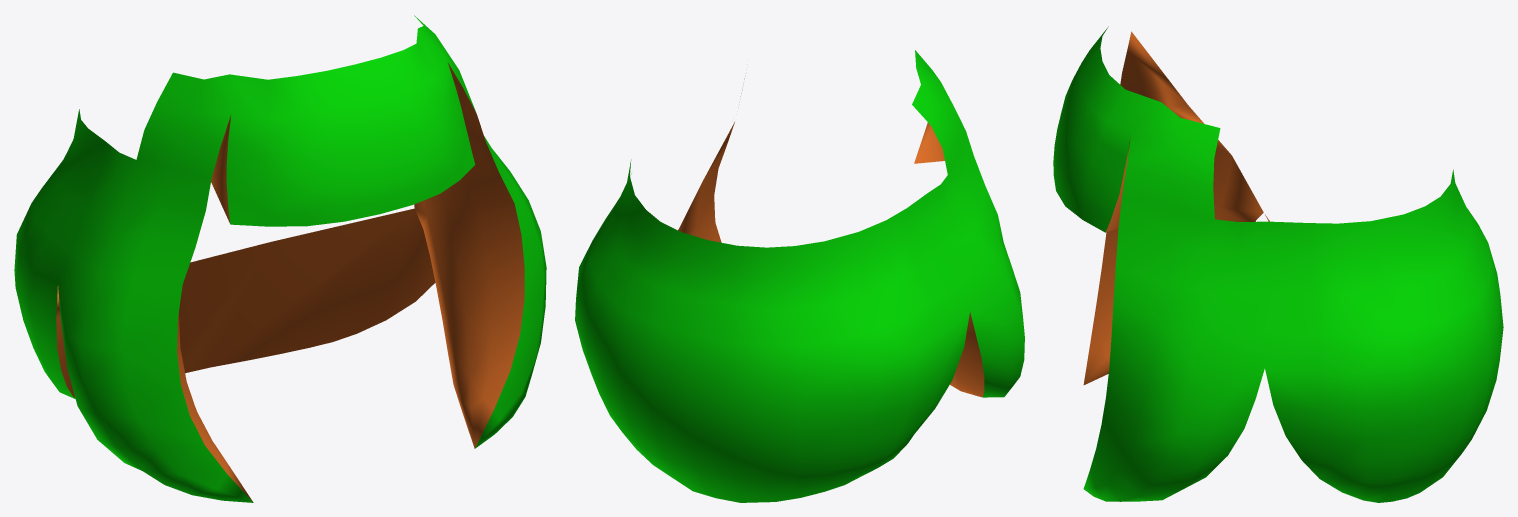
Rendered from Hair2_72.glb.
3 views of the same model, side by side, from view 1: azimuth 30°, elevation 25°; view 2: azimuth 150°, elevation 25°; view 3: azimuth 270°, elevation 25° (orthographic). The views are drawn at different scales.
Bounding box in the file's own units: 73.67 × 66.52 × 64.6.
